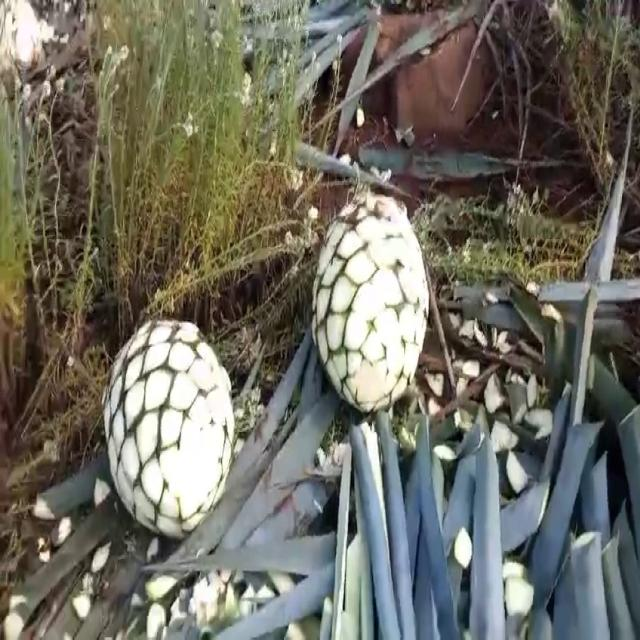agave: (96, 312, 242, 534), (305, 192, 432, 409)
